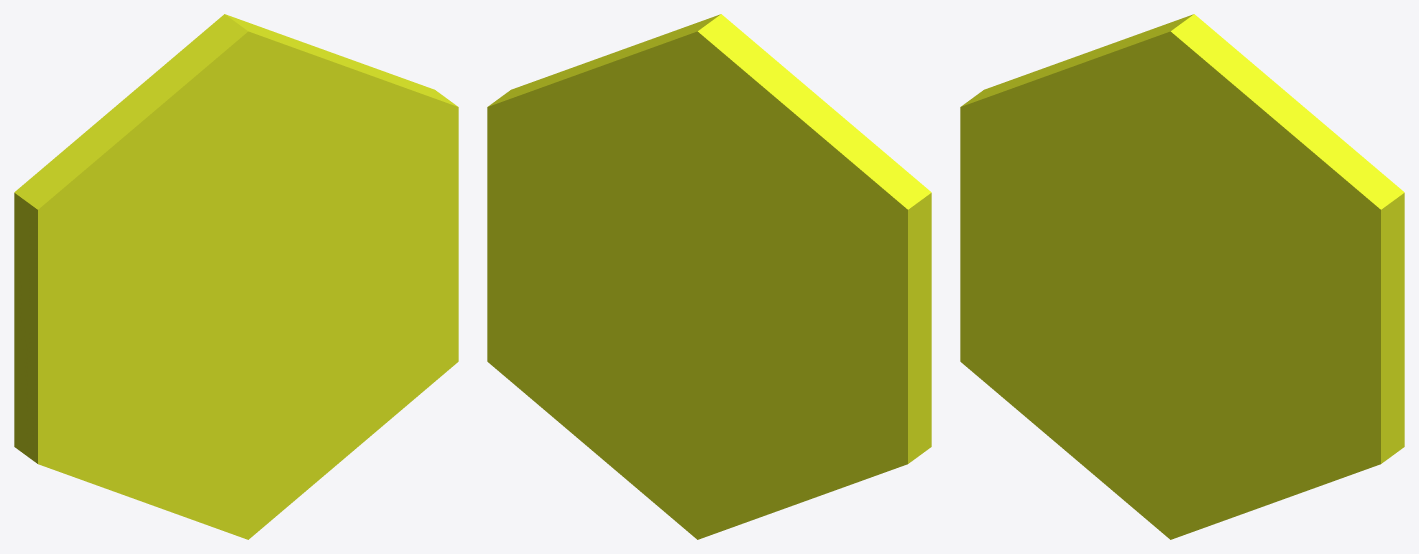
Rendered from tile.obj.
The picture shows the model from 3 angles, left to right: view 1: azimuth 30°, elevation 25°; view 2: azimuth 150°, elevation 25°; view 3: azimuth 330°, elevation 25°; orthographic projection.
Parts seen in each view (by area): view 1: Cylinder; view 2: Cylinder; view 3: Cylinder.
Part boxes in pixels (bbox=[...]): Cylinder: bbox=[14, 14, 458, 539]; Cylinder: bbox=[487, 14, 931, 539]; Cylinder: bbox=[960, 14, 1404, 539].
Bounding box in the file's own units: 0.2044 × 0.2361 × 0.02.
